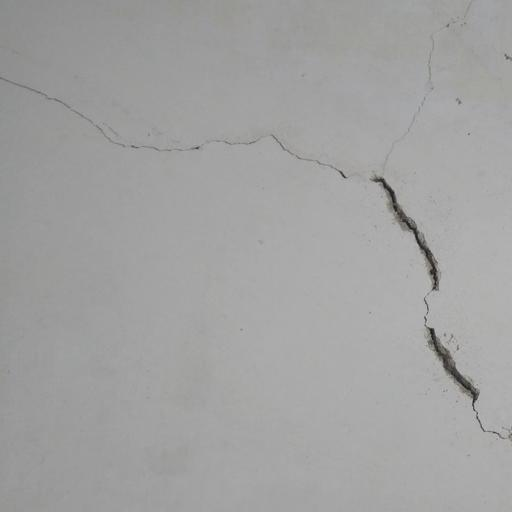major_crack: (0, 51, 512, 436)
